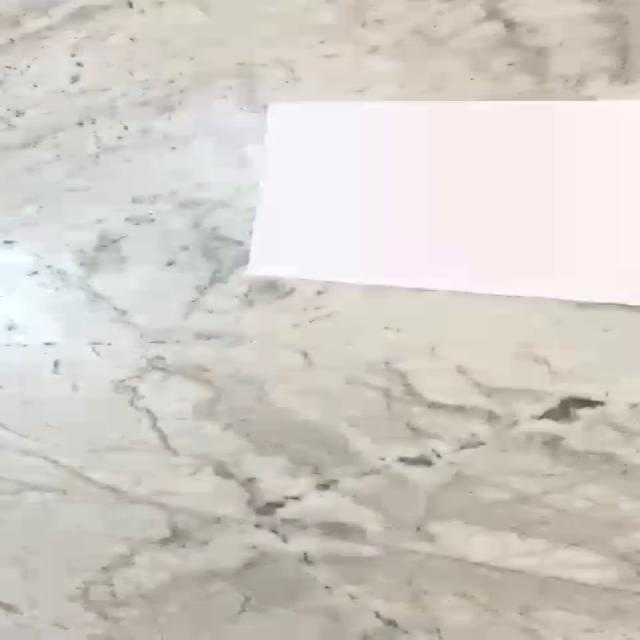road: (244, 100, 640, 309)
